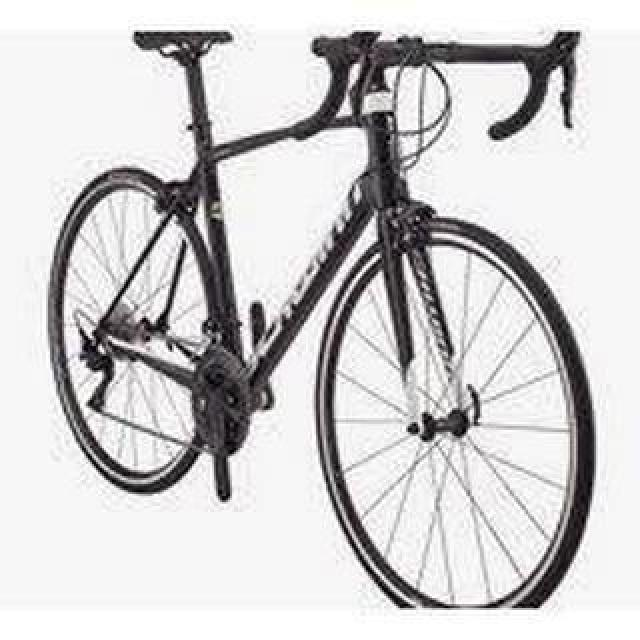Person: (48, 25, 598, 611)
